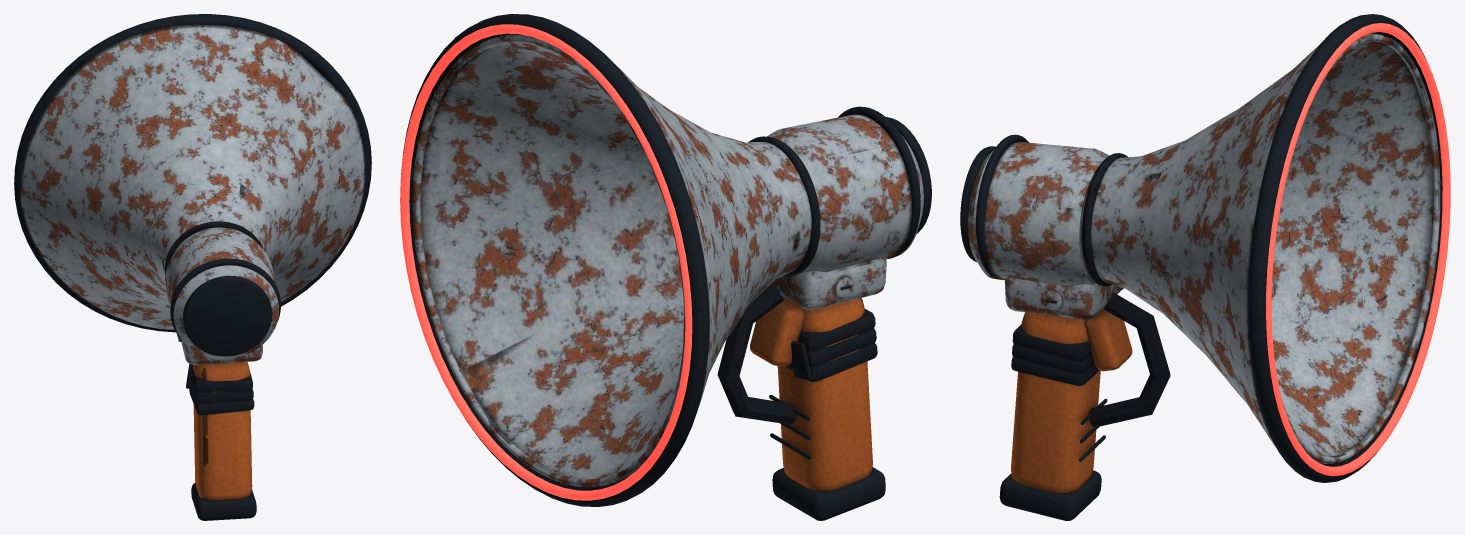
The picture shows the model from 3 angles, left to right: view 1: azimuth 30°, elevation 25°; view 2: azimuth 150°, elevation 25°; view 3: azimuth 270°, elevation 25°; orthographic projection. The views are drawn at different scales.
Visible parts, largest first — view 1: anim_Scuffed_tin_and_chipped_enamel_1, Navy_rubber_tape_and_recesses, Worn_orange_rubber, anim_Scuffed_tin_and_chipped_enamel_0, Scuffed_tin_and_chipped_enamel; view 2: anim_Scuffed_tin_and_chipped_enamel_1, Navy_rubber_tape_and_recesses, anim_Scuffed_tin_and_chipped_enamel_0, Worn_orange_rubber, glow_Alarm_red_mouth_ring, Scuffed_tin_and_chipped_enamel; view 3: anim_Scuffed_tin_and_chipped_enamel_1, Navy_rubber_tape_and_recesses, anim_Scuffed_tin_and_chipped_enamel_0, Worn_orange_rubber, glow_Alarm_red_mouth_ring, Scuffed_tin_and_chipped_enamel.
Part boxes in pixels (left/top/right/bottom): anim_Scuffed_tin_and_chipped_enamel_1: left=20, top=24, right=365, bottom=330; Navy_rubber_tape_and_recesses: left=14, top=14, right=371, bottom=520; Worn_orange_rubber: left=193, top=362, right=252, bottom=500; anim_Scuffed_tin_and_chipped_enamel_0: left=164, top=227, right=278, bottom=359; Scuffed_tin_and_chipped_enamel: left=177, top=337, right=262, bottom=364; anim_Scuffed_tin_and_chipped_enamel_1: left=420, top=34, right=811, bottom=486; Navy_rubber_tape_and_recesses: left=401, top=14, right=931, bottom=520; anim_Scuffed_tin_and_chipped_enamel_0: left=767, top=114, right=923, bottom=273; Worn_orange_rubber: left=750, top=297, right=872, bottom=491; glow_Alarm_red_mouth_ring: left=400, top=24, right=692, bottom=500; Scuffed_tin_and_chipped_enamel: left=412, top=35, right=886, bottom=487; anim_Scuffed_tin_and_chipped_enamel_1: left=1081, top=33, right=1432, bottom=464; Navy_rubber_tape_and_recesses: left=960, top=14, right=1442, bottom=520; anim_Scuffed_tin_and_chipped_enamel_0: left=967, top=142, right=1109, bottom=286; Worn_orange_rubber: left=1011, top=306, right=1132, bottom=493; glow_Alarm_red_mouth_ring: left=1266, top=23, right=1450, bottom=476; Scuffed_tin_and_chipped_enamel: left=1004, top=33, right=1440, bottom=463.
Size of the model in its own units: 1.94 by 2.57 by 2.19.
4 materials, 3 textured.
